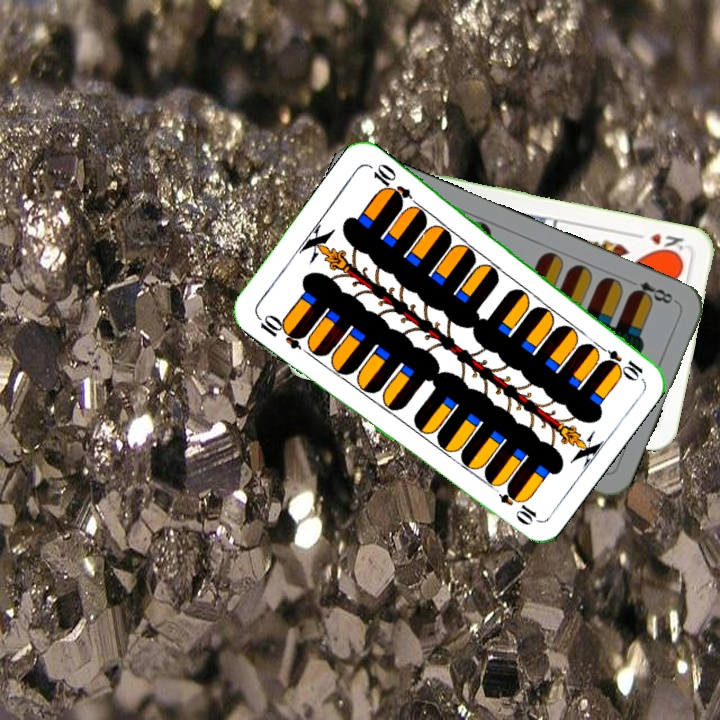E10: (252, 310, 307, 352), (592, 340, 646, 380)
E8: (623, 275, 679, 307)
HK: (630, 228, 686, 259)
